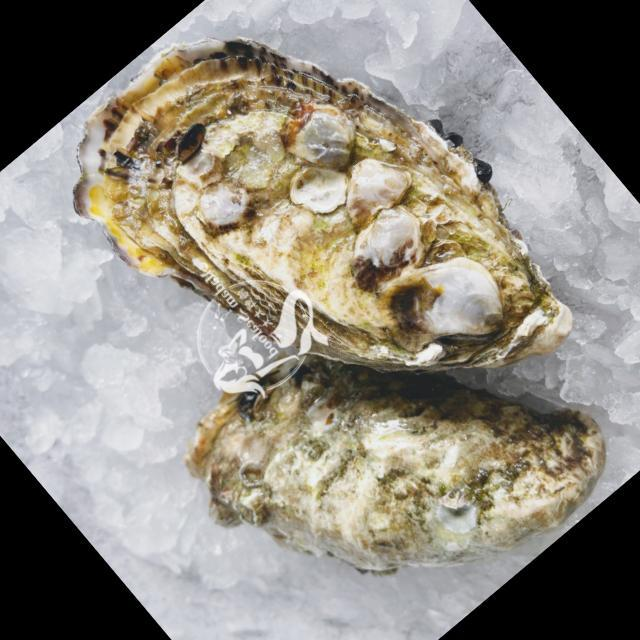Oyster- Indeterminate: (78, 39, 574, 370), (189, 356, 606, 577)
